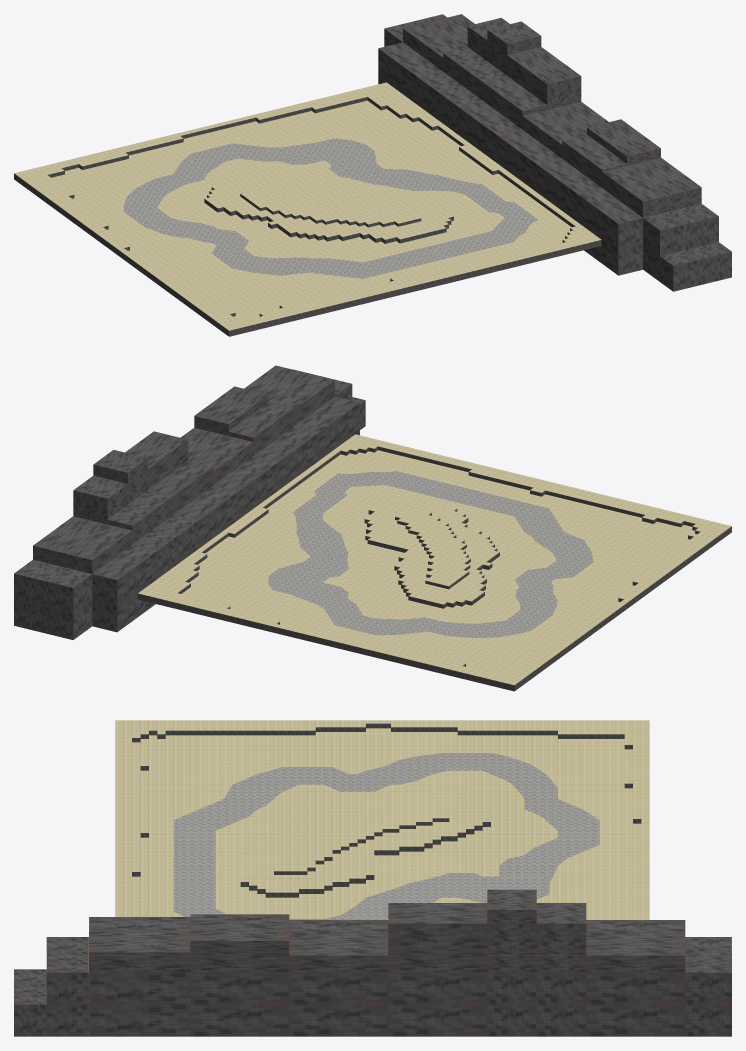
File: terrain_0_v0.glb
3 views of the same model, one above another, from view 1: azimuth 30°, elevation 25°; view 2: azimuth 150°, elevation 25°; view 3: azimuth 270°, elevation 25° (orthographic). The views are drawn at different scales.
Parts seen in each view (by area): view 1: Terrain_01_Track, Terrain01_RockBg, Terrain_01_Edges, Terrai01_CenterHill; view 2: Terrain_01_Track, Terrain01_RockBg, Terrain_01_Edges, Terrai01_CenterHill; view 3: Terrain01_RockBg, Terrain_01_Track, Terrain_01_Edges, Terrai01_CenterHill.
Part boxes in pixels (<box>): Terrain_01_Track: <box>51,100,571,318</box>; Terrain01_RockBg: <box>378,14,731,291</box>; Terrain_01_Edges: <box>14,82,601,336</box>; Terrai01_CenterHill: <box>204,178,453,243</box>; Terrain_01_Track: <box>181,450,694,671</box>; Terrain01_RockBg: <box>14,365,365,639</box>; Terrain_01_Edges: <box>137,434,731,691</box>; Terrai01_CenterHill: <box>364,497,499,608</box>; Terrain01_RockBg: <box>14,889,731,1036</box>; Terrain_01_Track: <box>132,728,641,919</box>; Terrain_01_Edges: <box>115,720,649,919</box>; Terrai01_CenterHill: <box>240,790,490,897</box>.
Size of what is drawn, in the model's own units: 159 by 33.47 by 172.
Materials: 1 (1 with a texture image).
